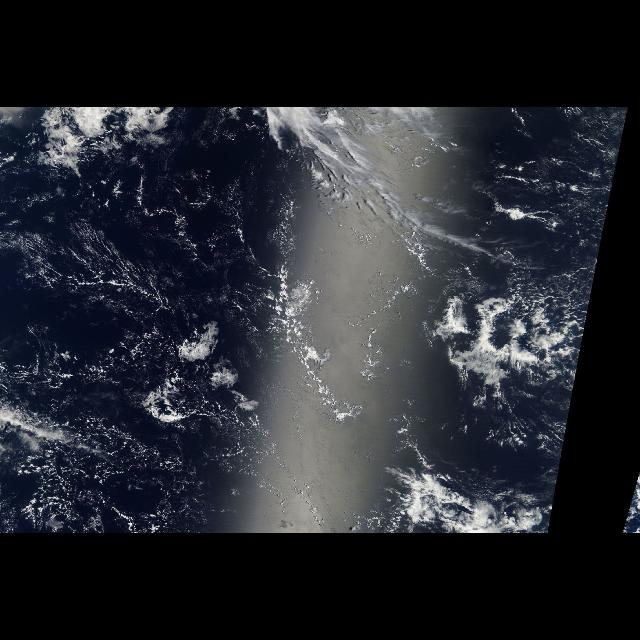Fish: (28, 280, 336, 460)
Gravel: (20, 408, 204, 532)
